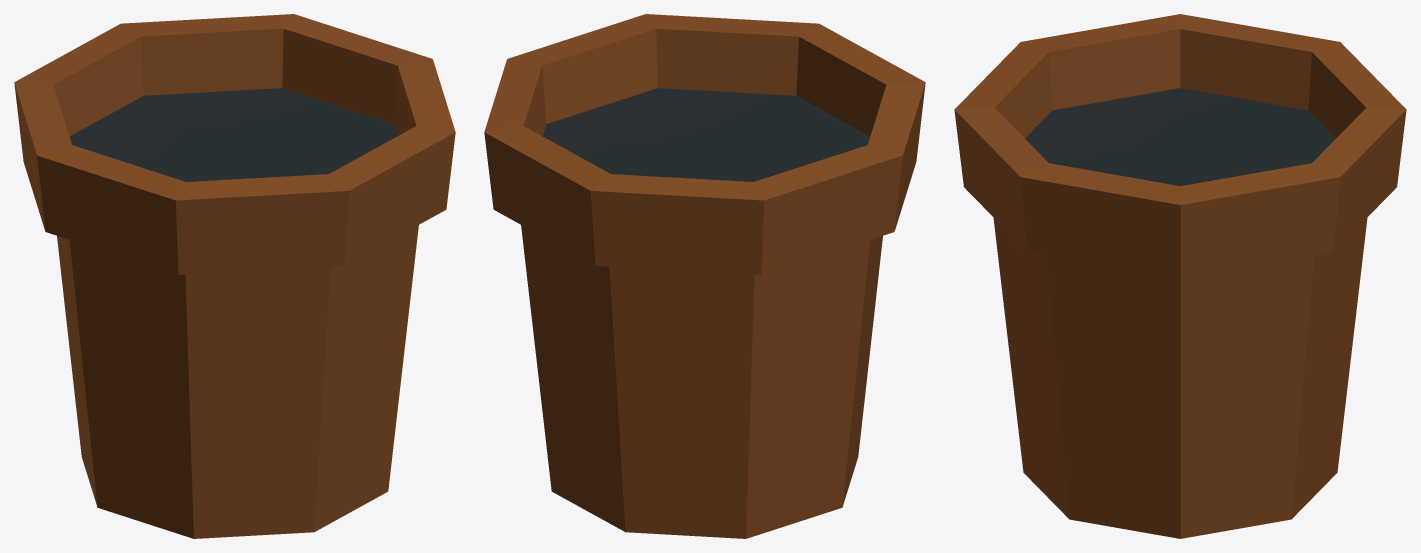
The model's file is pot.fbx.
The picture shows the model from 3 angles, left to right: view 1: azimuth 30°, elevation 25°; view 2: azimuth 150°, elevation 25°; view 3: azimuth 270°, elevation 25°; orthographic projection.
Parts seen in each view (by area): view 1: pot; view 2: pot; view 3: pot.
Boxes of the visible parts, x1,y1,x2,y2 form: pot: [14, 14, 455, 538]; pot: [484, 14, 925, 538]; pot: [954, 14, 1406, 538].
Bounding box in the file's own units: 49.87 × 44.42 × 49.87.
1 material, 1 textured.
